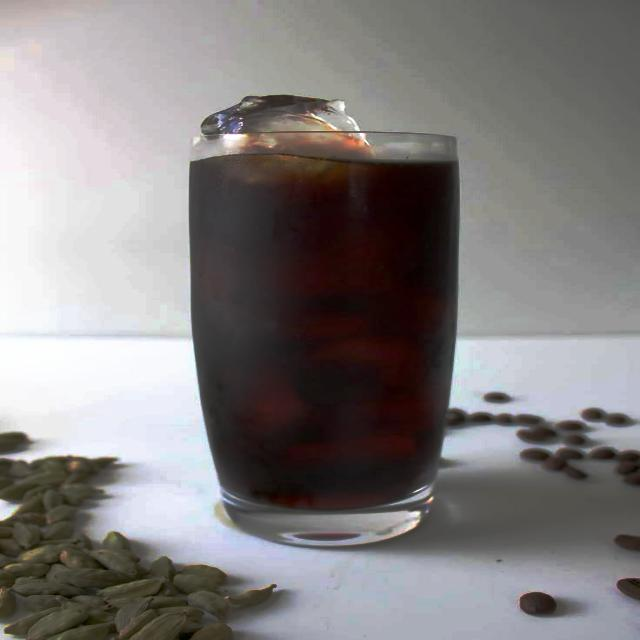drink: (186, 128, 458, 523)
